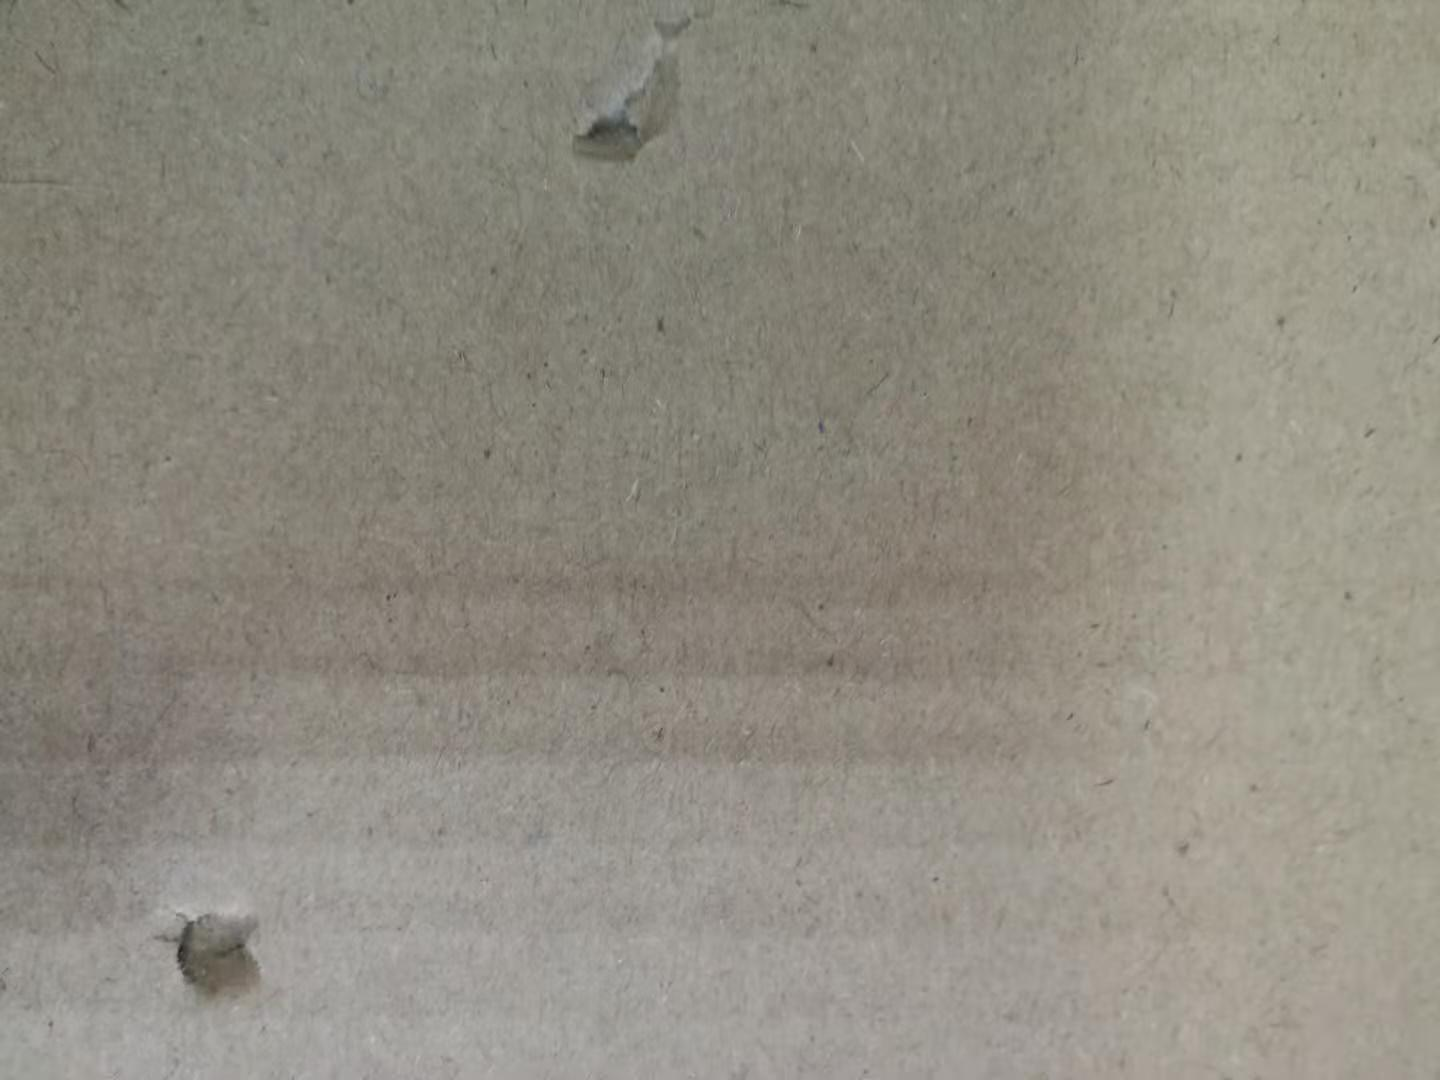defect: (552, 1, 748, 180), (132, 857, 314, 1043)
